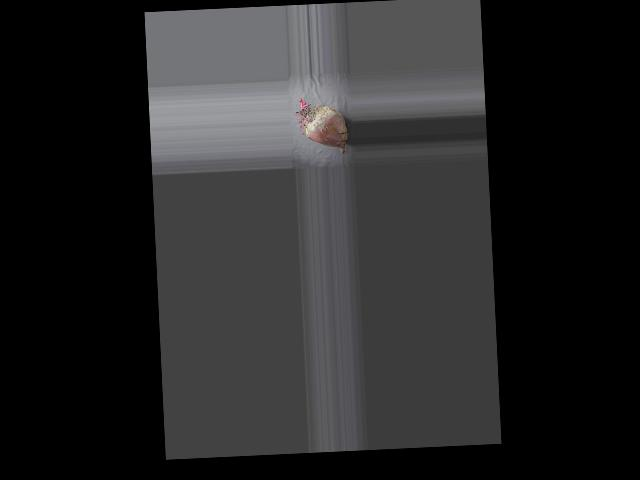beet: (294, 95, 348, 157)
